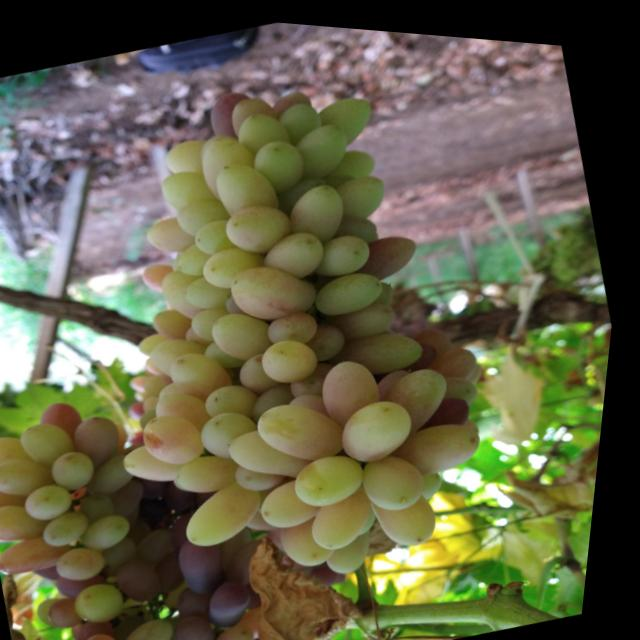grapes: (360, 351, 466, 440), (257, 381, 361, 470), (230, 407, 337, 491), (389, 402, 497, 480), (228, 244, 330, 326), (185, 469, 283, 551), (329, 312, 435, 383), (340, 384, 430, 464), (319, 344, 398, 429), (311, 475, 392, 550), (296, 439, 382, 509), (375, 474, 455, 549), (282, 171, 358, 248), (363, 438, 441, 512), (196, 124, 269, 203), (223, 189, 303, 259), (144, 400, 221, 471), (212, 148, 288, 219), (258, 217, 337, 284), (171, 338, 247, 407), (262, 465, 341, 530), (212, 298, 286, 366), (221, 376, 279, 461), (314, 257, 395, 317), (290, 111, 360, 180), (160, 256, 230, 324), (4, 523, 87, 580), (202, 398, 274, 462), (248, 127, 315, 195), (127, 430, 202, 490), (201, 233, 277, 292), (355, 221, 429, 281), (285, 505, 353, 570), (180, 440, 256, 498), (315, 83, 383, 147), (183, 526, 245, 595), (262, 324, 332, 385), (309, 220, 381, 277), (75, 407, 137, 473), (0, 446, 69, 505), (24, 412, 90, 473), (151, 325, 221, 382), (157, 378, 223, 438), (233, 100, 298, 159), (333, 288, 406, 340), (0, 493, 67, 549), (333, 162, 397, 219), (329, 518, 393, 574), (207, 371, 273, 425), (204, 81, 263, 141), (160, 159, 225, 212), (176, 187, 241, 239), (416, 381, 483, 431), (320, 136, 384, 188), (213, 570, 271, 627), (81, 573, 142, 627), (185, 262, 248, 313), (89, 445, 149, 498), (428, 332, 490, 383), (42, 393, 98, 449), (122, 547, 177, 604), (276, 166, 338, 216), (273, 92, 330, 146), (268, 299, 329, 349), (84, 505, 146, 554), (291, 349, 351, 399), (239, 340, 294, 394), (232, 529, 288, 582), (194, 207, 254, 256), (63, 536, 123, 585), (30, 475, 88, 525), (226, 86, 282, 137), (253, 372, 310, 422), (147, 207, 204, 257), (259, 466, 317, 515), (240, 446, 300, 493), (55, 443, 109, 494), (305, 311, 358, 362), (238, 592, 294, 640), (49, 503, 105, 549), (192, 297, 244, 344), (330, 202, 385, 246), (65, 561, 123, 602), (294, 381, 344, 428), (142, 520, 192, 567), (197, 124, 248, 170), (163, 131, 215, 176), (126, 607, 195, 640), (155, 299, 204, 345), (206, 327, 257, 371), (108, 530, 156, 576), (0, 427, 46, 474), (444, 359, 490, 405), (176, 234, 223, 278), (0, 471, 44, 518), (160, 544, 202, 593), (117, 473, 161, 517), (182, 603, 234, 640), (269, 82, 318, 121), (402, 329, 448, 368), (143, 255, 185, 296), (420, 314, 463, 354), (380, 357, 423, 395), (57, 592, 98, 631), (85, 486, 127, 524), (186, 579, 228, 617), (317, 551, 361, 585), (170, 575, 211, 611), (217, 615, 274, 640), (46, 593, 82, 632), (252, 499, 291, 532), (358, 498, 392, 531), (189, 315, 223, 347), (141, 327, 176, 357), (425, 462, 457, 494), (129, 422, 162, 452), (148, 366, 179, 396), (87, 623, 141, 640), (372, 272, 402, 302), (163, 375, 196, 400), (42, 560, 75, 585), (228, 286, 254, 313), (149, 349, 175, 375), (469, 350, 493, 377), (135, 369, 161, 392), (278, 522, 297, 549), (468, 407, 489, 430), (148, 389, 171, 410), (146, 406, 169, 427), (134, 397, 155, 419), (181, 470, 203, 490), (181, 632, 236, 640), (166, 367, 183, 383), (141, 387, 154, 399), (147, 639, 196, 640), (63, 639, 102, 640)
